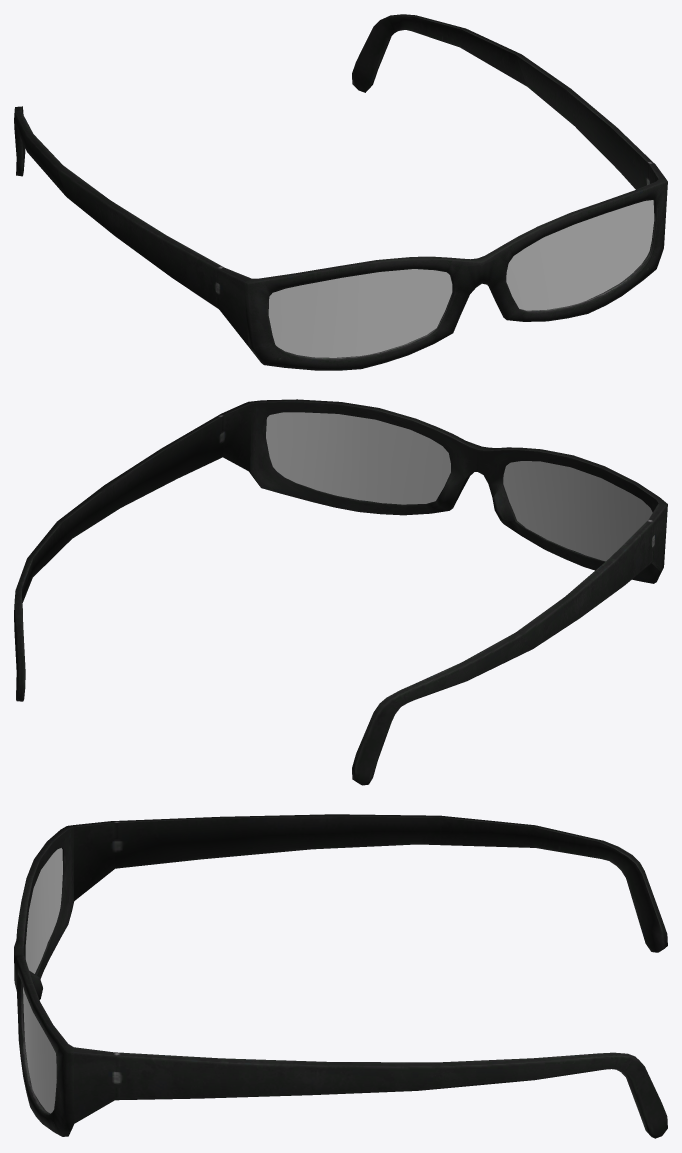
Rendered from pair_of_glasses.dae.
3 renders of one model, top to bottom at view 1: azimuth 30°, elevation 25°; view 2: azimuth 150°, elevation 25°; view 3: azimuth 270°, elevation 25°, orthographic. The views are drawn at different scales.
Visible parts, largest first — view 1: pair_of_glasses, pair_of_glasses_eyeglass; view 2: pair_of_glasses, pair_of_glasses_eyeglass; view 3: pair_of_glasses, pair_of_glasses_eyeglass.
Part boxes in pixels (x1=…): pair_of_glasses: x1=14, y1=14, x2=667, y2=370; pair_of_glasses_eyeglass: x1=268, y1=200, x2=654, y2=357; pair_of_glasses: x1=14, y1=399, x2=667, y2=785; pair_of_glasses_eyeglass: x1=266, y1=412, x2=652, y2=561; pair_of_glasses: x1=14, y1=814, x2=667, y2=1138; pair_of_glasses_eyeglass: x1=23, y1=848, x2=62, y2=1113.
Bounding box in the file's own units: 16.82 × 3.59 × 18.44.
